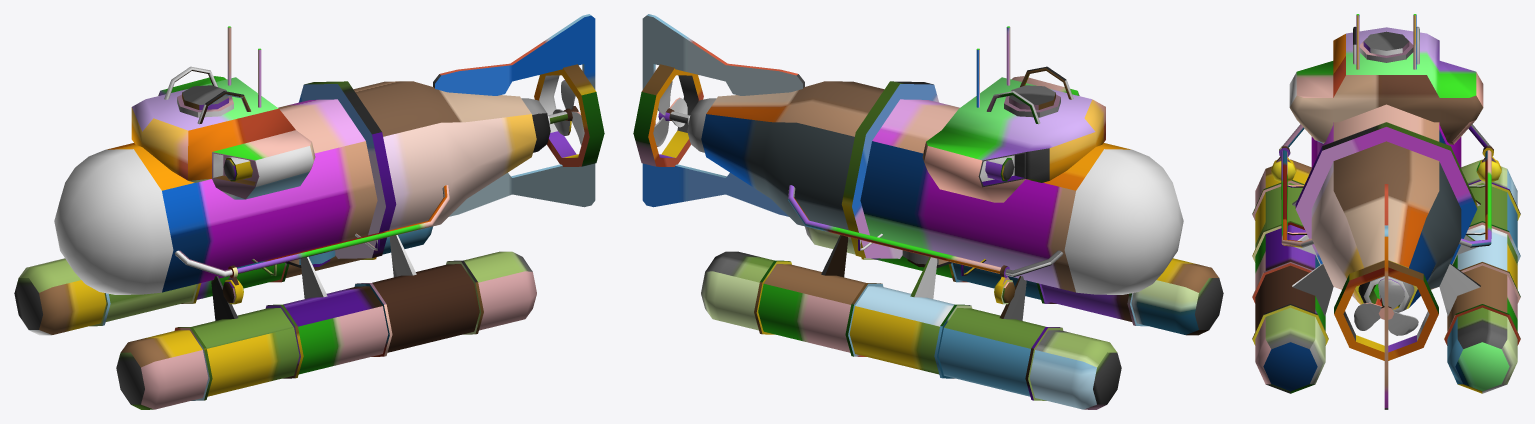
The model's file is submarine.fbx.
3 renders of one model, left to right at view 1: azimuth 30°, elevation 25°; view 2: azimuth 150°, elevation 25°; view 3: azimuth 270°, elevation 25°, orthographic. The views are drawn at different scales.
Parts seen in each view (by area): view 1: sub_corpus, sub_glass, sub_propeller; view 2: sub_corpus, sub_glass, sub_propeller; view 3: sub_corpus, sub_propeller.
Part boxes in pixels (x1,y1,x2,y2): sub_corpus: (14, 14, 604, 409); sub_glass: (54, 149, 173, 294); sub_propeller: (553, 80, 584, 145); sub_corpus: (633, 14, 1223, 409); sub_glass: (1064, 149, 1183, 294); sub_propeller: (653, 81, 687, 146); sub_corpus: (1252, 14, 1520, 409); sub_propeller: (1354, 278, 1418, 335).
Bounding box in the file's own units: 347 × 188 × 162.
